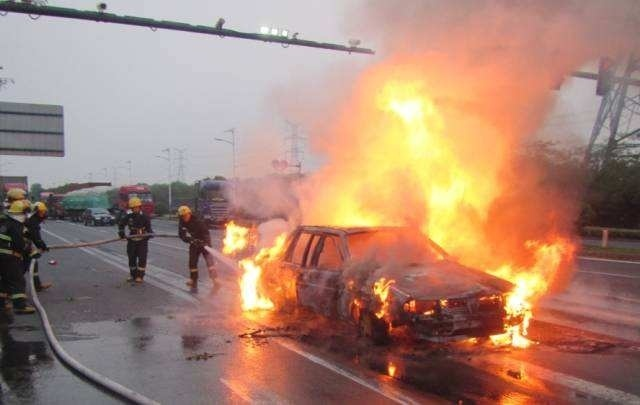fire: (210, 64, 584, 361), (223, 218, 293, 313)
